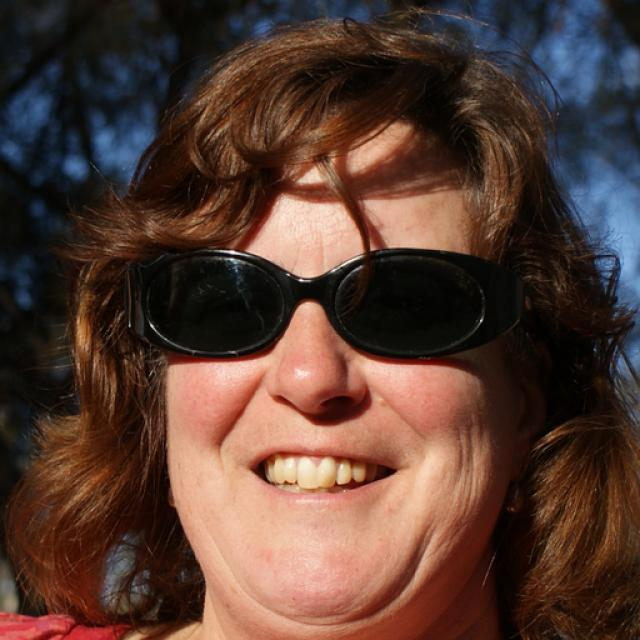happy: (162, 148, 534, 622)
